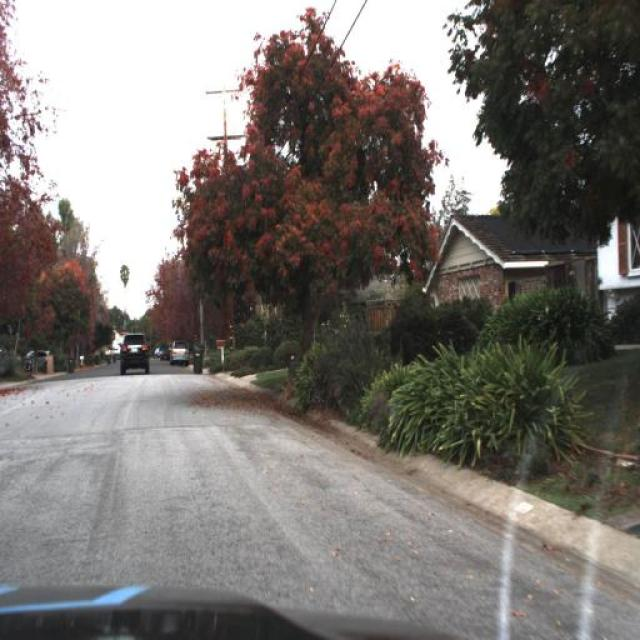car: (117, 326, 151, 379), (168, 338, 190, 367)
